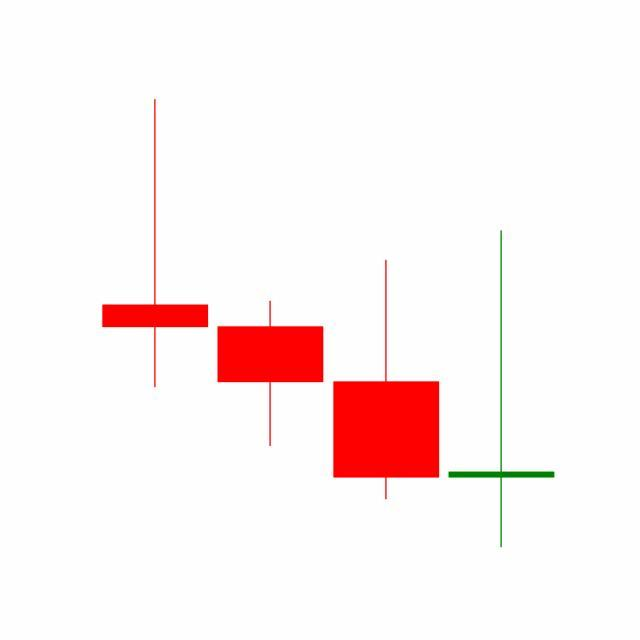Spinning Top: (444, 228, 560, 552)
